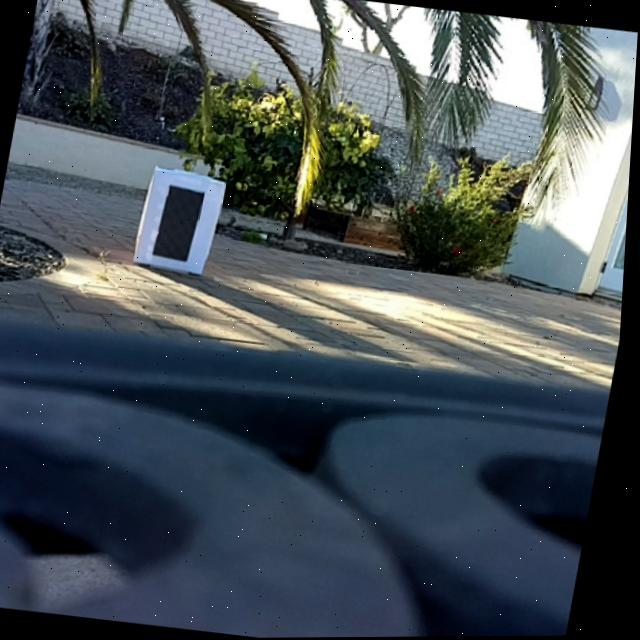led: (154, 181, 210, 266)
